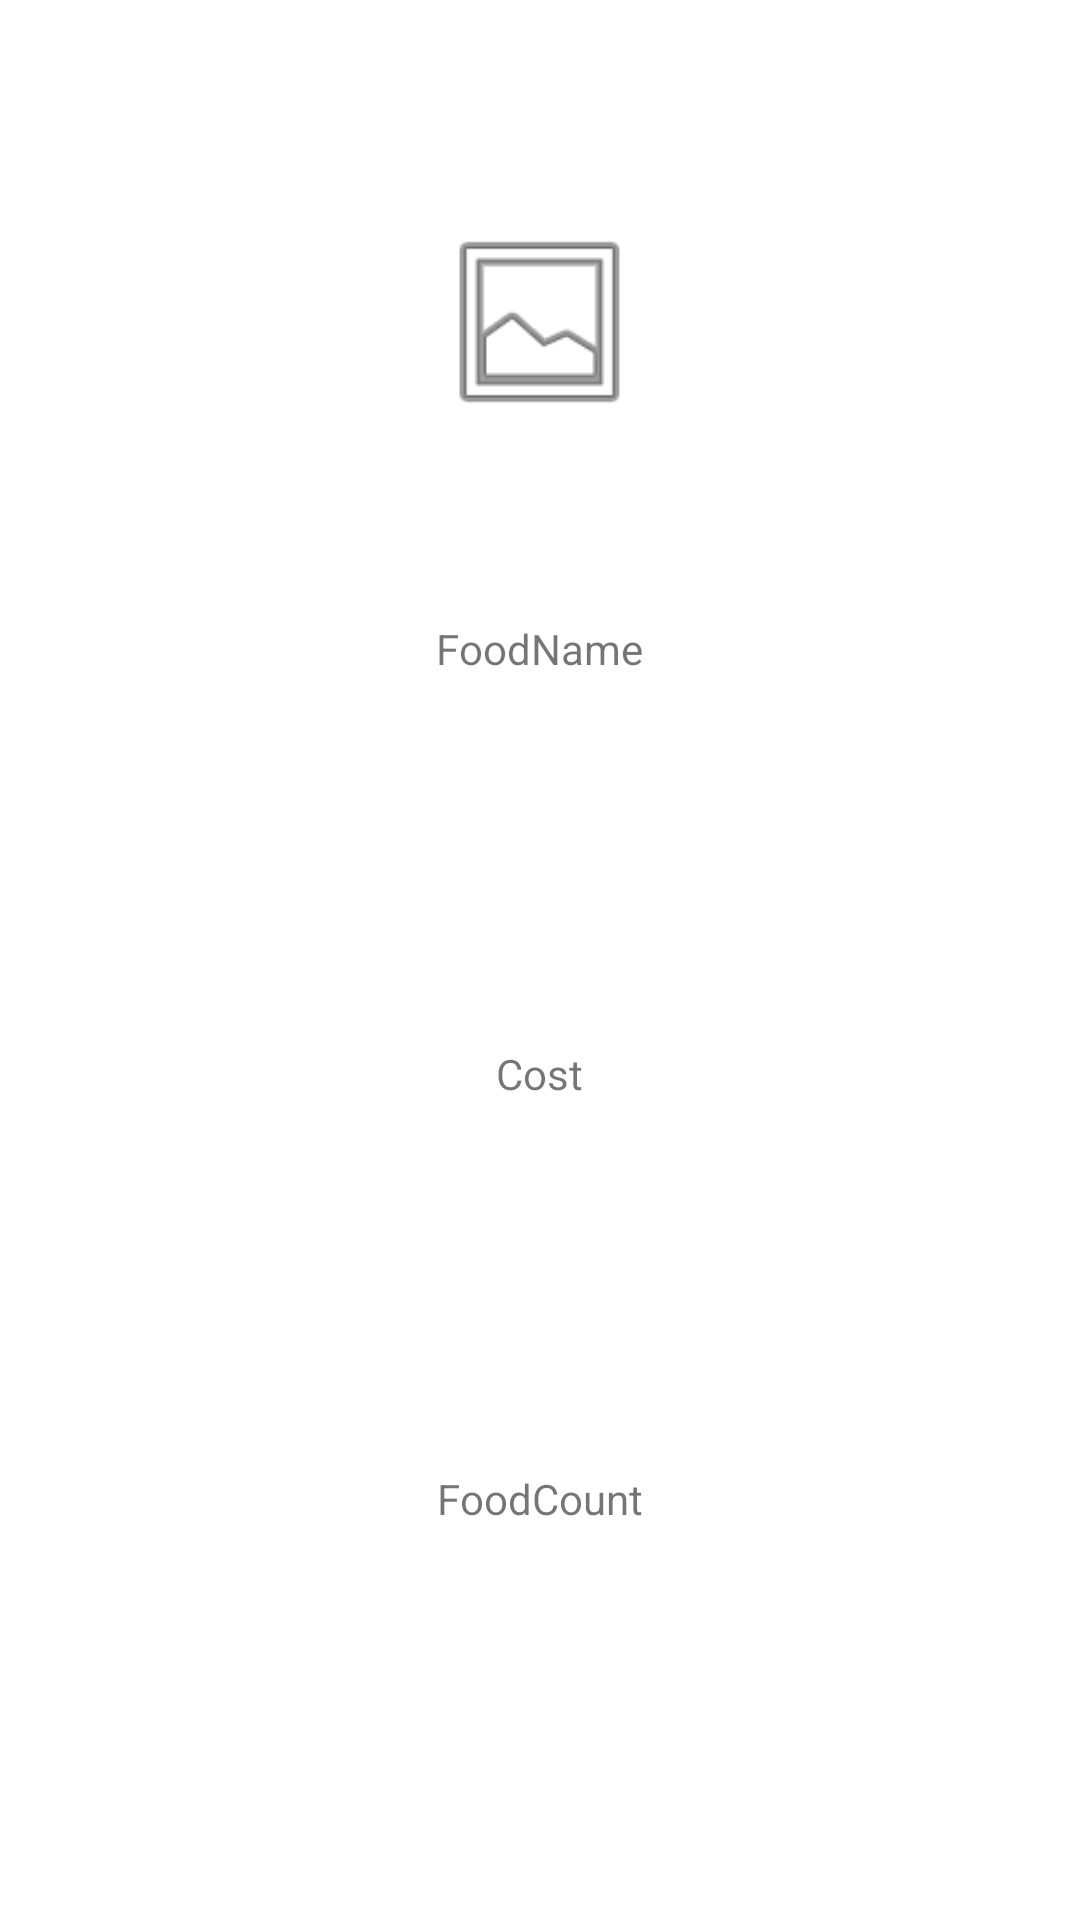

Where to tap for icons on this 1080w x 1920h app screen, as point (x, y):
gallery: point (539, 322)
